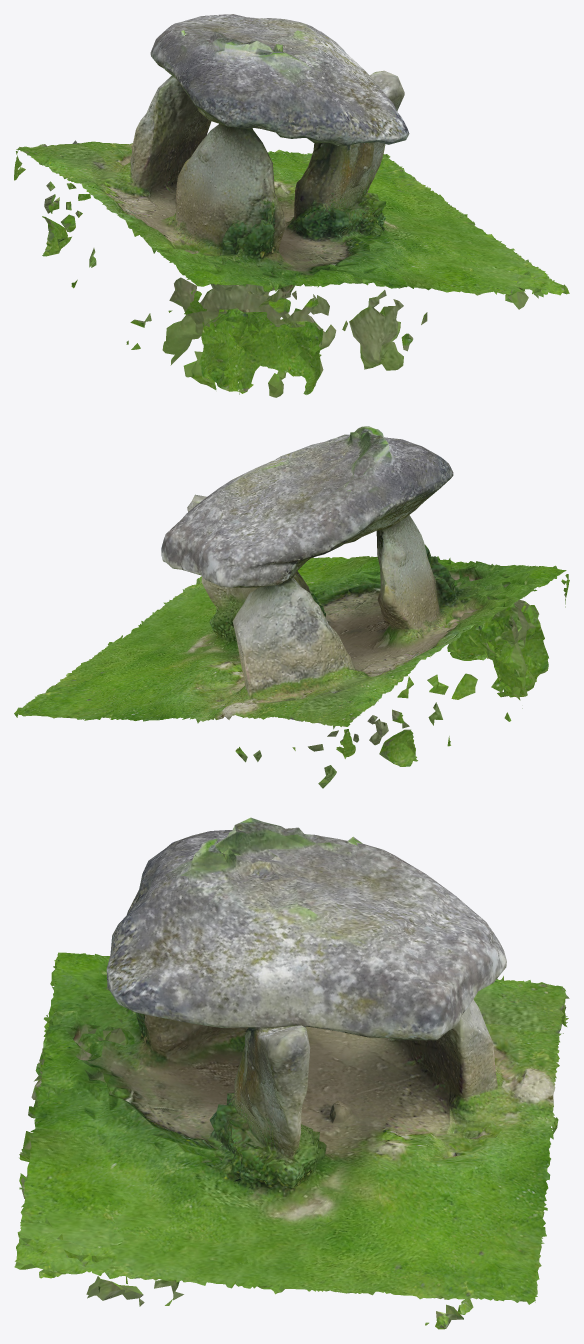
The model's file is spinsters_rock.glb.
3 renders of one model, top to bottom at view 1: azimuth 30°, elevation 25°; view 2: azimuth 150°, elevation 25°; view 3: azimuth 270°, elevation 25°, orthographic. The views are drawn at different scales.
Visible parts, largest first — view 1: Object_2; view 2: Object_2; view 3: Object_2.
Part boxes in pixels (x1,y1,x2,y2): Object_2: (14,14,569,397); Object_2: (14,426,569,788); Object_2: (14,817,569,1329).
Bounding box in the file's own units: 5.66 × 4.32 × 5.62.
Materials: 1 (1 with a texture image).
